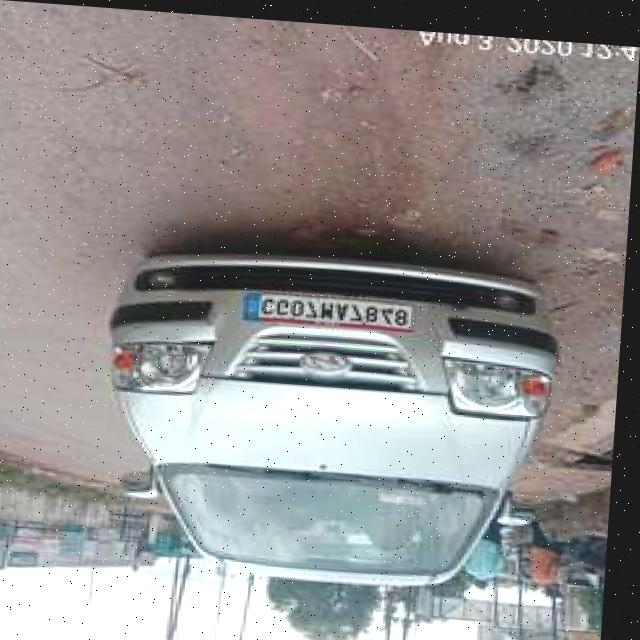plate: (248, 287, 420, 327)
